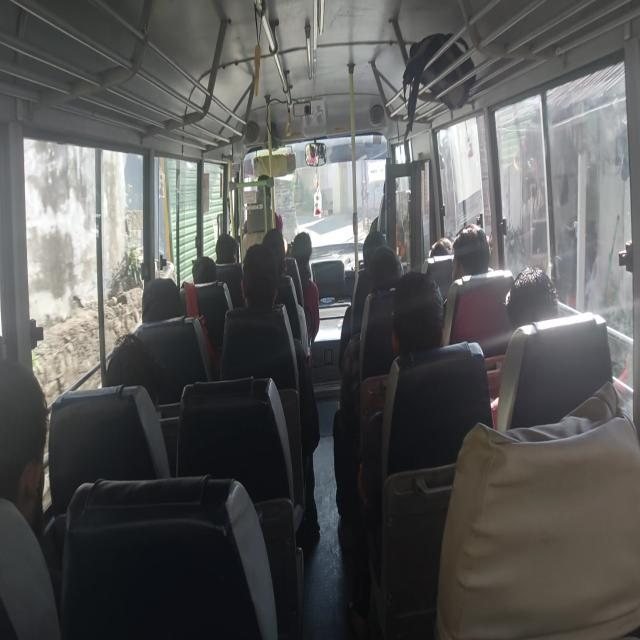person: (0, 352, 61, 534), (389, 272, 449, 356), (101, 334, 170, 404), (502, 268, 564, 325), (237, 243, 280, 325), (452, 217, 493, 279), (140, 274, 190, 319), (366, 243, 403, 298), (424, 230, 456, 265), (360, 230, 391, 264), (192, 253, 221, 288), (214, 228, 242, 264), (381, 170, 408, 207), (289, 228, 314, 264), (261, 227, 289, 259), (256, 167, 277, 204)
